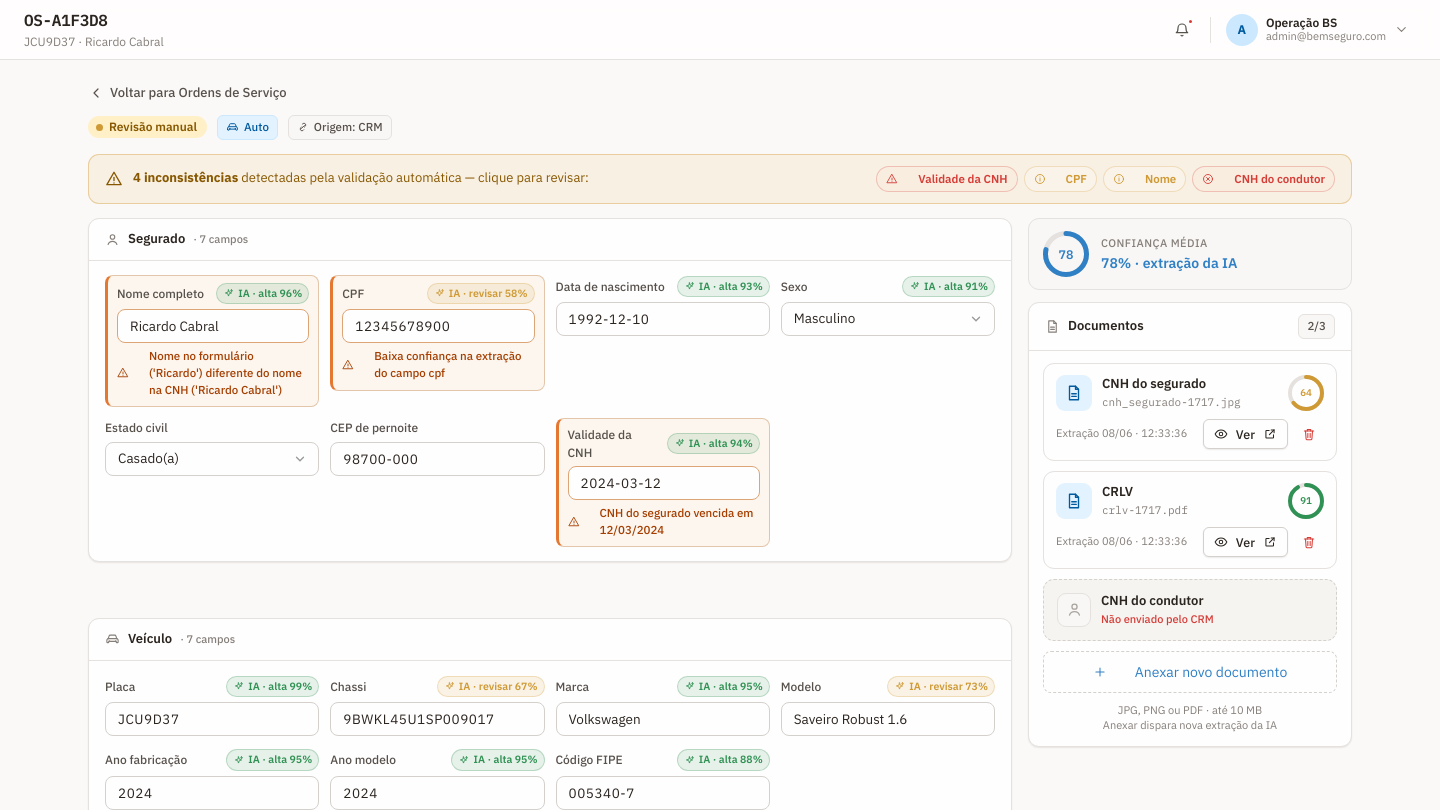
Test case: DetalheOS — estado revisao_manual › clicar Remover abre o modal de confirmação (arquivo preservado)
The width and height of the screenshot is (1440, 810).
Check: the text "CNH do segurado" is shown, box [1102,375,1206,392]
Click the button named "remover documento" below "cnh_segurado-1717.jpg". click: (1309, 434)
box: [1294,419,1324,449]
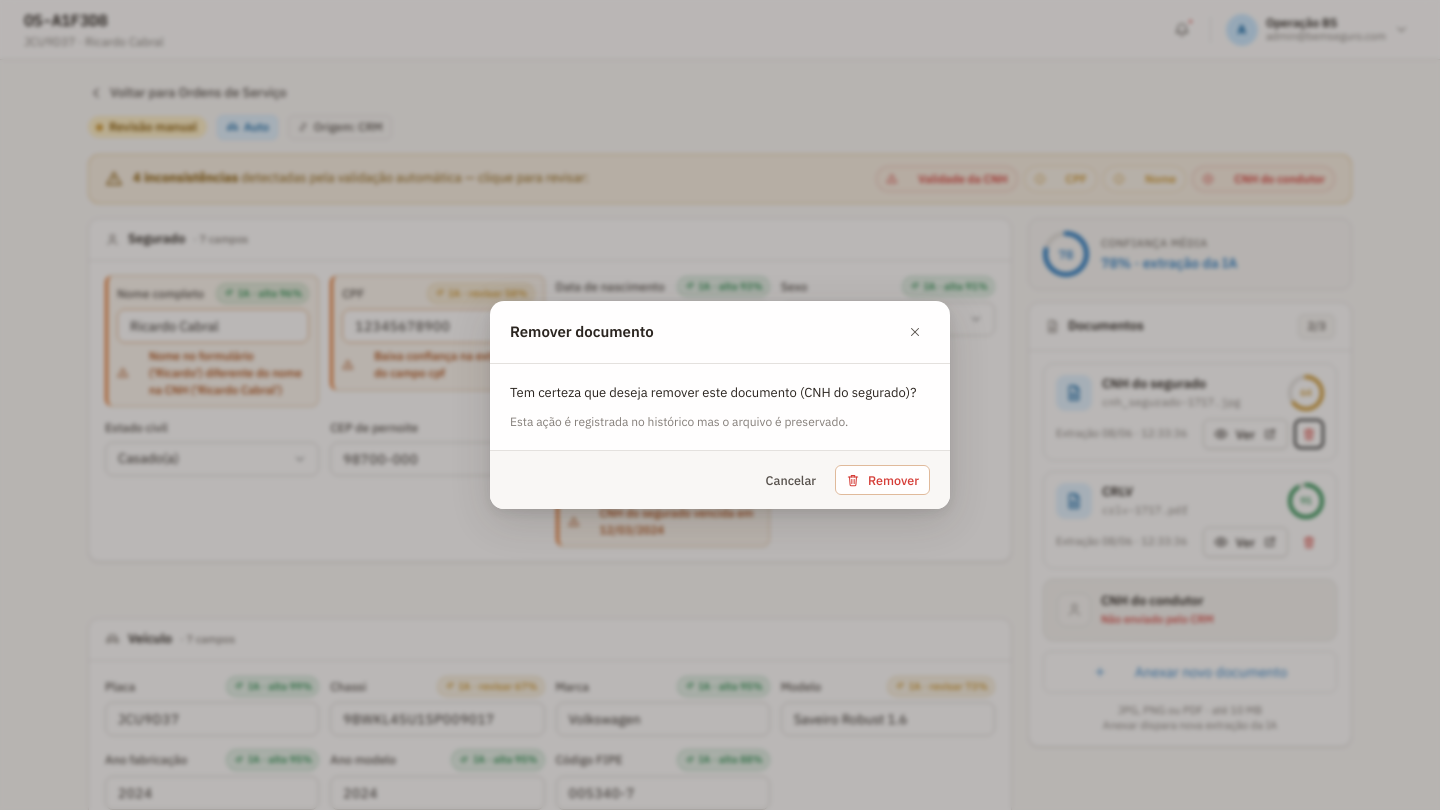
Check: the text "Tem certeza que deseja remover" is shown, box [510,384,797,401]
Check: the text "arquivo é preservado" is shown, box [510,414,848,429]
